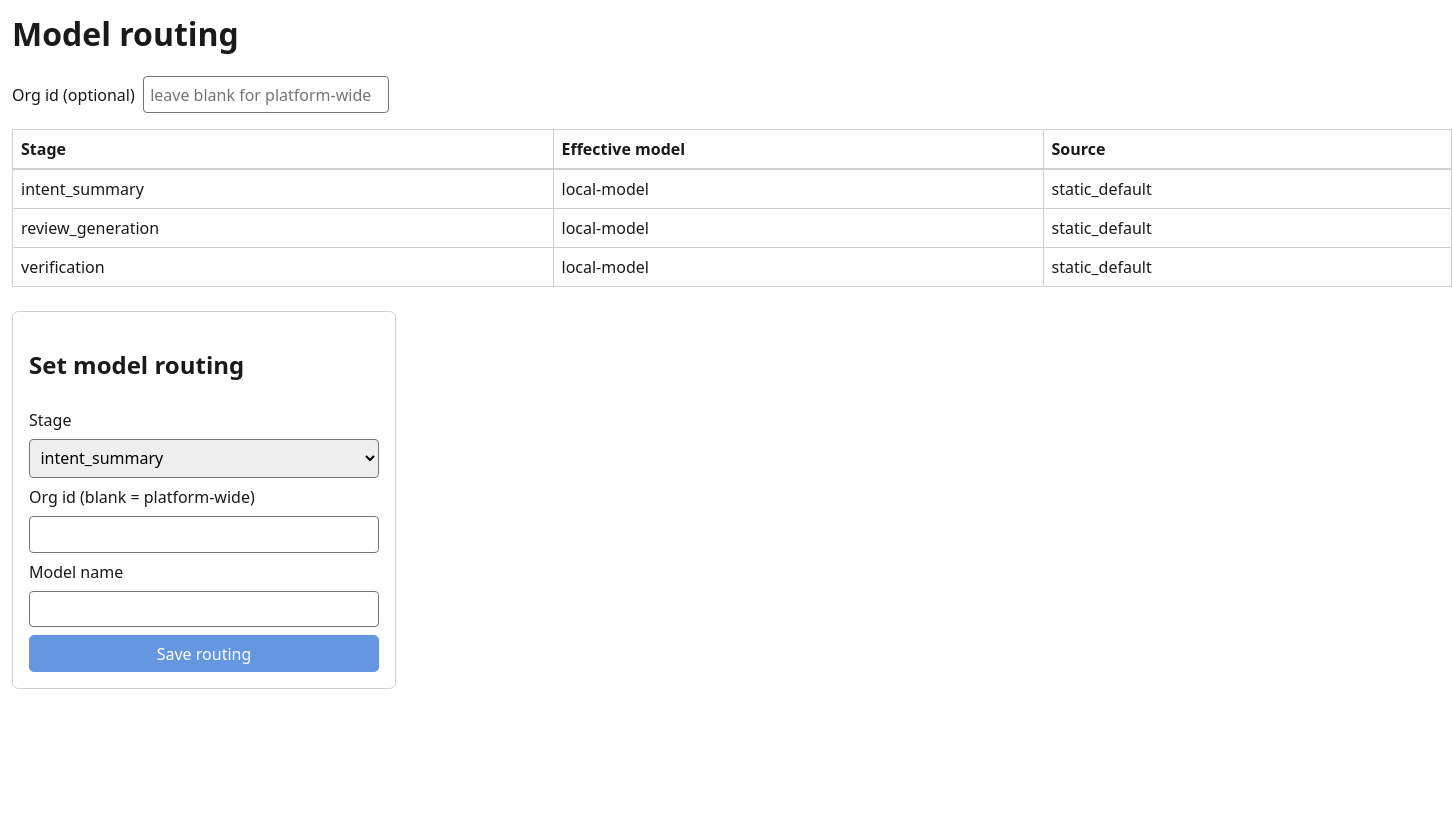
it: ModelRoutingScreen › Admin: disables Save until a model name is entered, then shows success on save
Expected: the text "review_generation" is shown, x1=12 y1=209 x2=553 y2=248
Expected: the button "Save routing" is disabled, x1=29 y1=635 x2=379 y2=672
Step 1. Type "gpt-new" into the field labelled "Model name" → (204, 609), box x1=29 y1=591 x2=379 y2=627
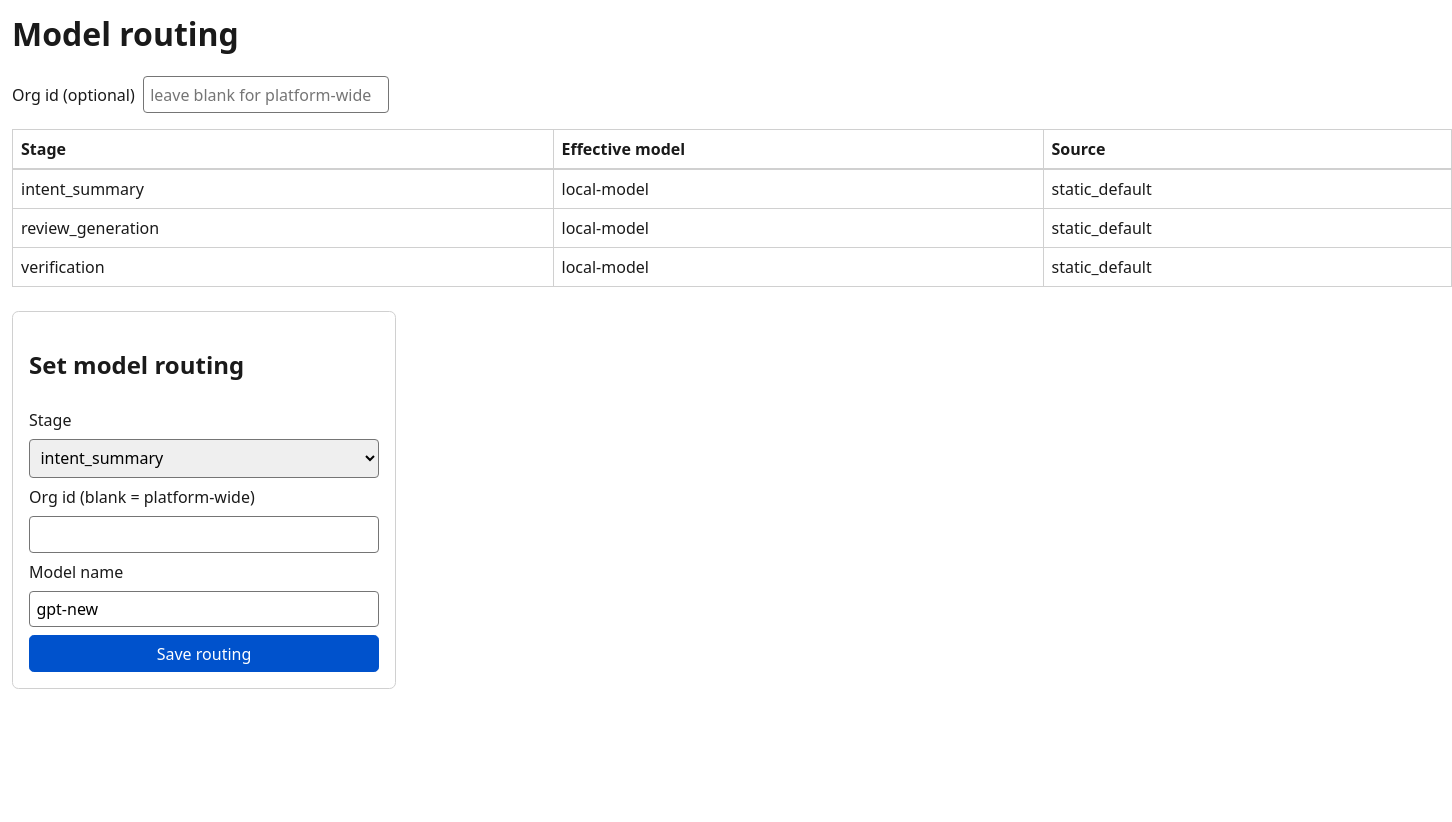
Expected: the button "Save routing" is enabled
Step 2. Click the button "Save routing" → click(204, 654), box x1=29 y1=635 x2=379 y2=672
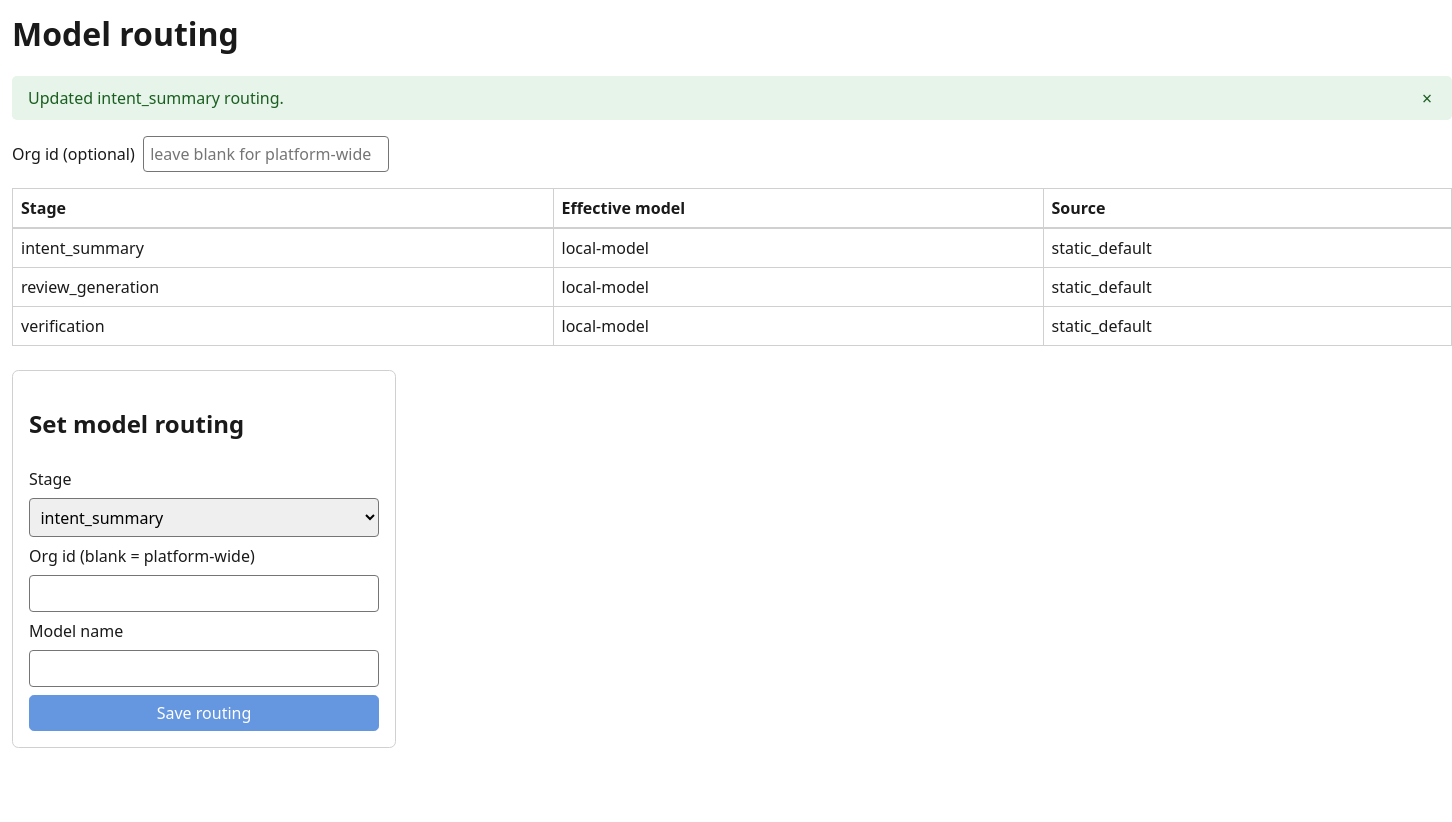
Expected: the message with test id "notice" shows "Updated intent_summary routing", x1=28 y1=87 x2=284 y2=109
